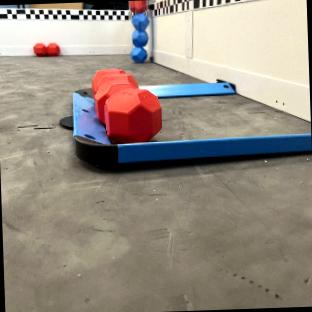V5_BLUE: (131, 13, 149, 61)
V5_RED: (91, 68, 162, 144), (131, 0, 146, 13), (34, 43, 47, 56), (47, 43, 59, 56)
